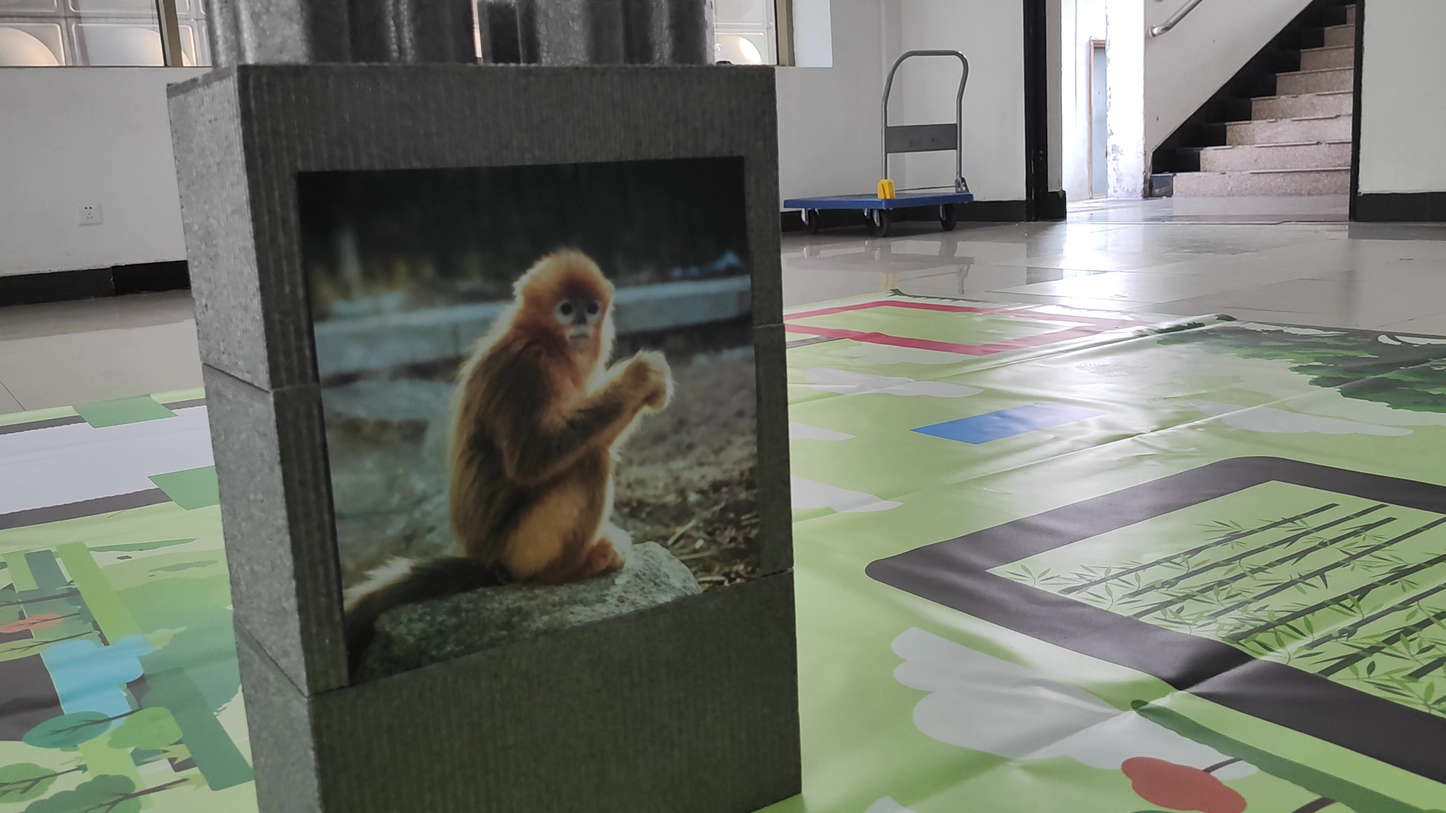monkey: (313, 227, 720, 665)
